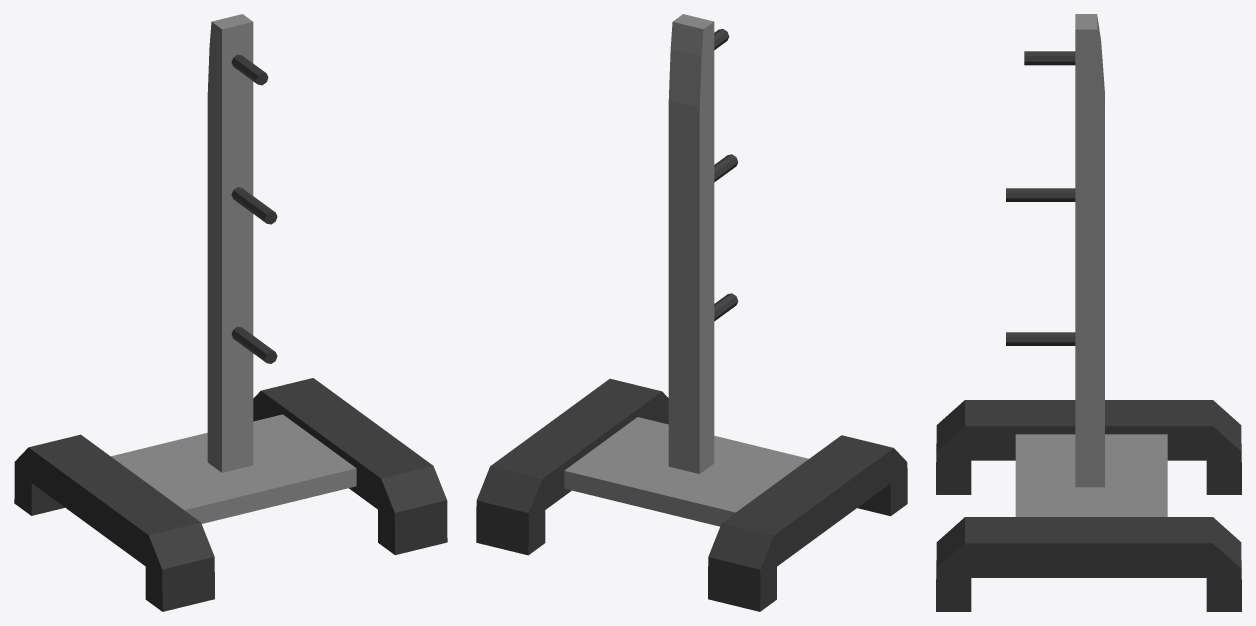
Rendered from weight_stand_1.glb.
3 views of the same model, side by side, from view 1: azimuth 30°, elevation 25°; view 2: azimuth 150°, elevation 25°; view 3: azimuth 270°, elevation 25° (orthographic). The views are drawn at different scales.
Visible parts, largest first — view 1: Weight_Stand_1; view 2: Weight_Stand_1; view 3: Weight_Stand_1.
Part boxes in pixels (left/top/right/bottom): Weight_Stand_1: left=14, top=14, right=447, bottom=611; Weight_Stand_1: left=476, top=14, right=907, bottom=611; Weight_Stand_1: left=936, top=14, right=1241, bottom=611.
Bounding box in the file's own units: 0.7179 × 1.21 × 0.6468.
1 material, 1 textured.
